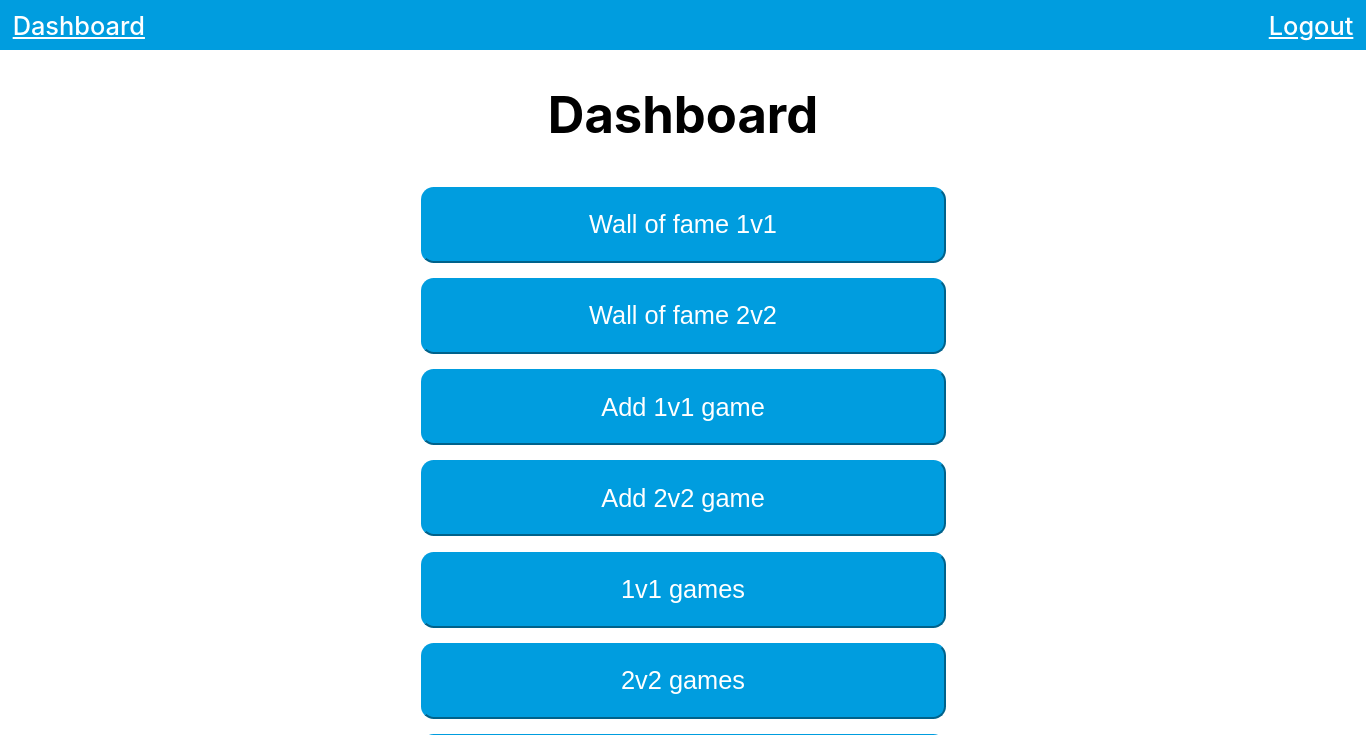
Scenario: renders the add 2v2 game page
The image size is (1366, 735).
Click the button "Add 2v2 game" at (683, 498), box [420, 460, 946, 536]
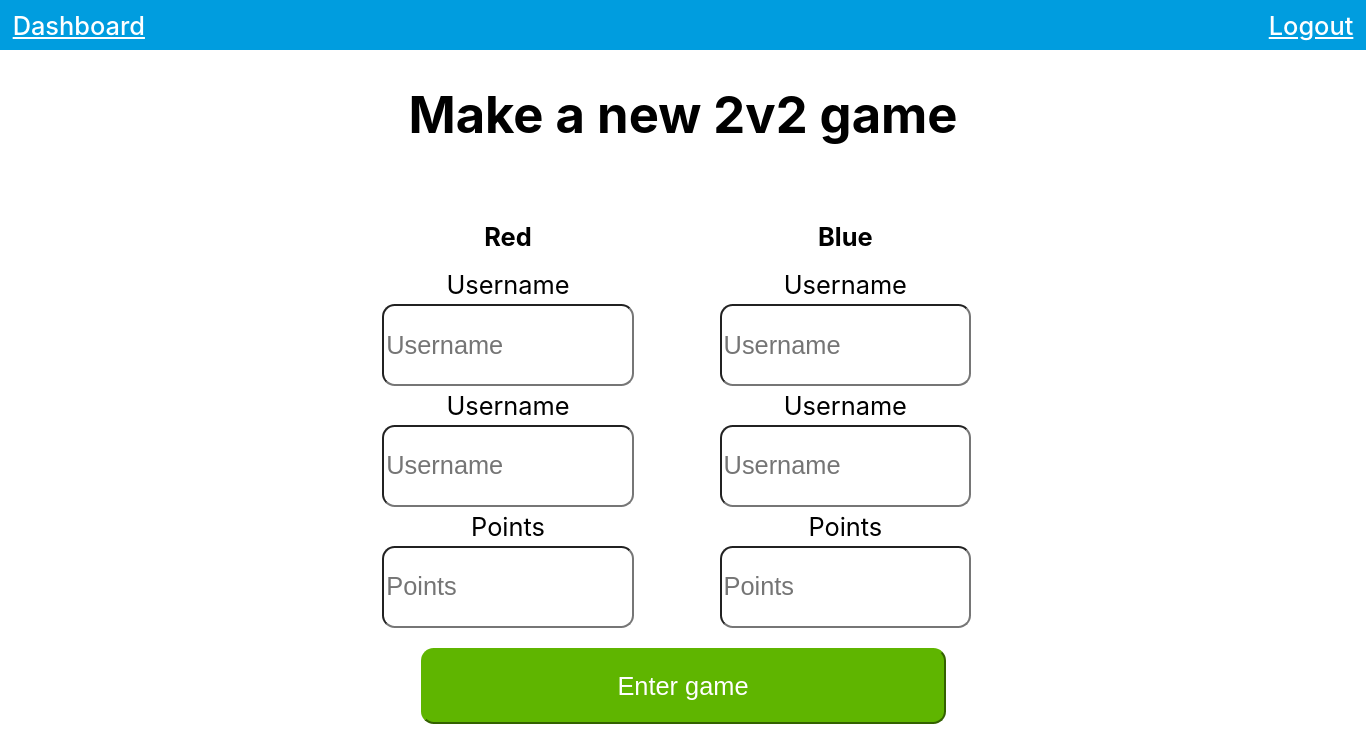
Now the heading "Make a new 2v2 game" is shown, box [333, 84, 1033, 145]
